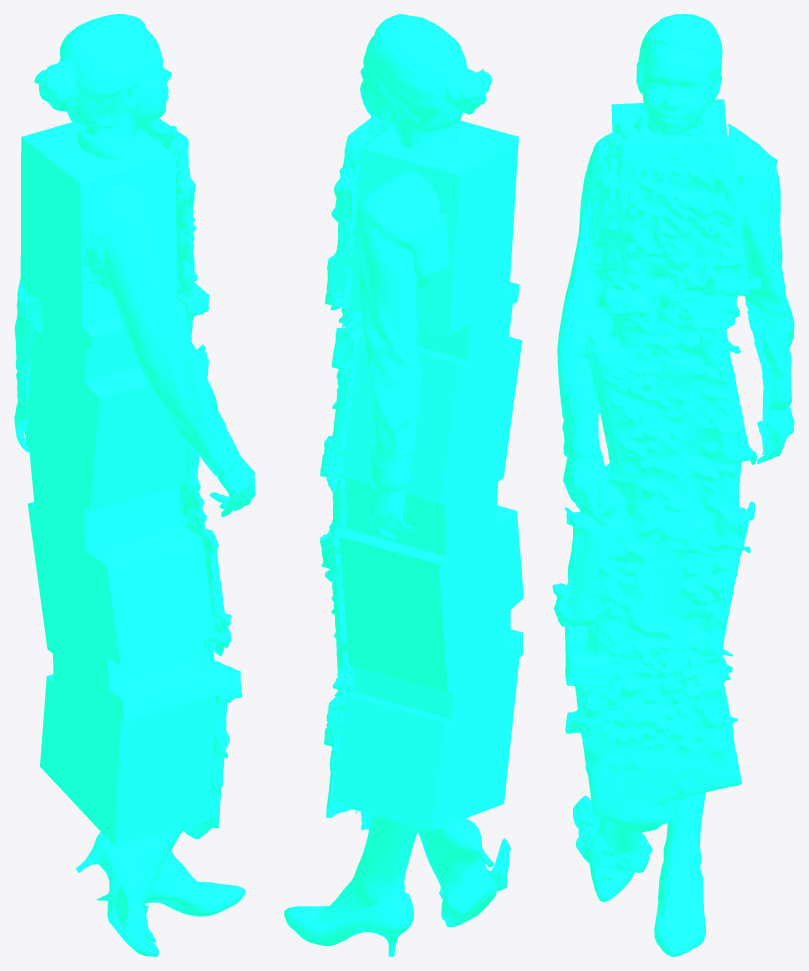
3 views of the same model, side by side, from view 1: azimuth 30°, elevation 25°; view 2: azimuth 150°, elevation 25°; view 3: azimuth 270°, elevation 25° (orthographic). The views are drawn at different scales.
Parts seen in each view (by area): view 1: Humano_04Diverse_03_30K.001; view 2: Humano_04Diverse_03_30K.001; view 3: Humano_04Diverse_03_30K.001.
Boxes of the visible parts, bbox=[...] form: Humano_04Diverse_03_30K.001: bbox=[14, 14, 255, 956]; Humano_04Diverse_03_30K.001: bbox=[284, 14, 523, 956]; Humano_04Diverse_03_30K.001: bbox=[552, 14, 794, 956].
Bounding box in the file's own units: 3.59 × 15.55 × 3.85.
